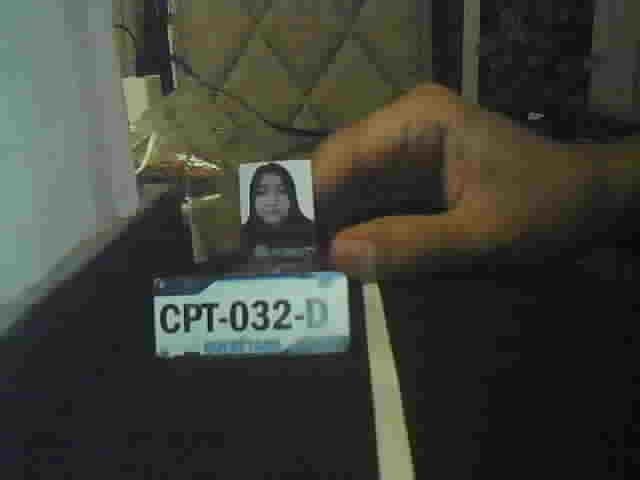PLACA: (151, 270, 352, 362)
ROSTRO: (241, 164, 314, 237)
